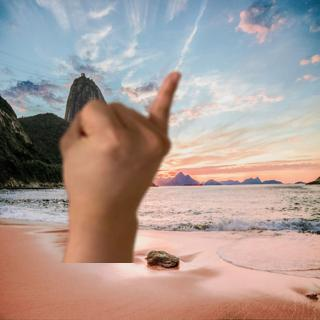FINE: (52, 68, 185, 228)
